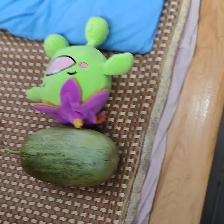gua: (19, 129, 107, 171)
